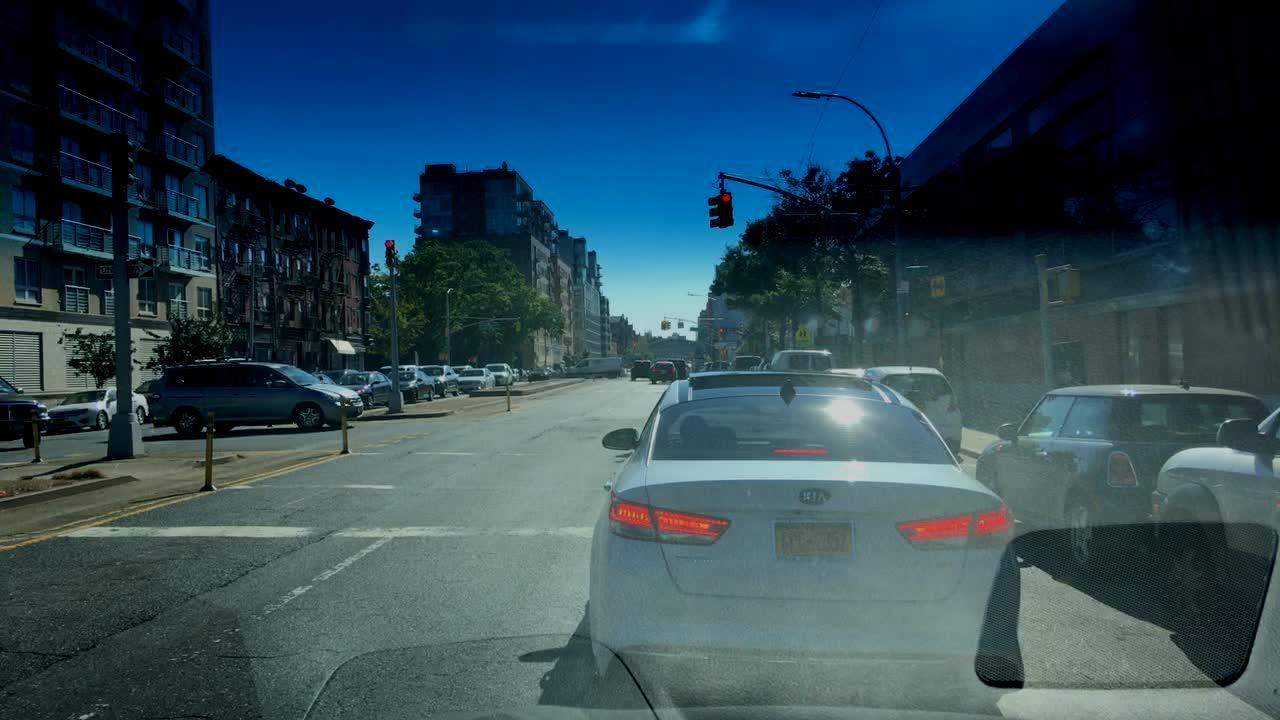kia: (794, 479, 842, 514)
